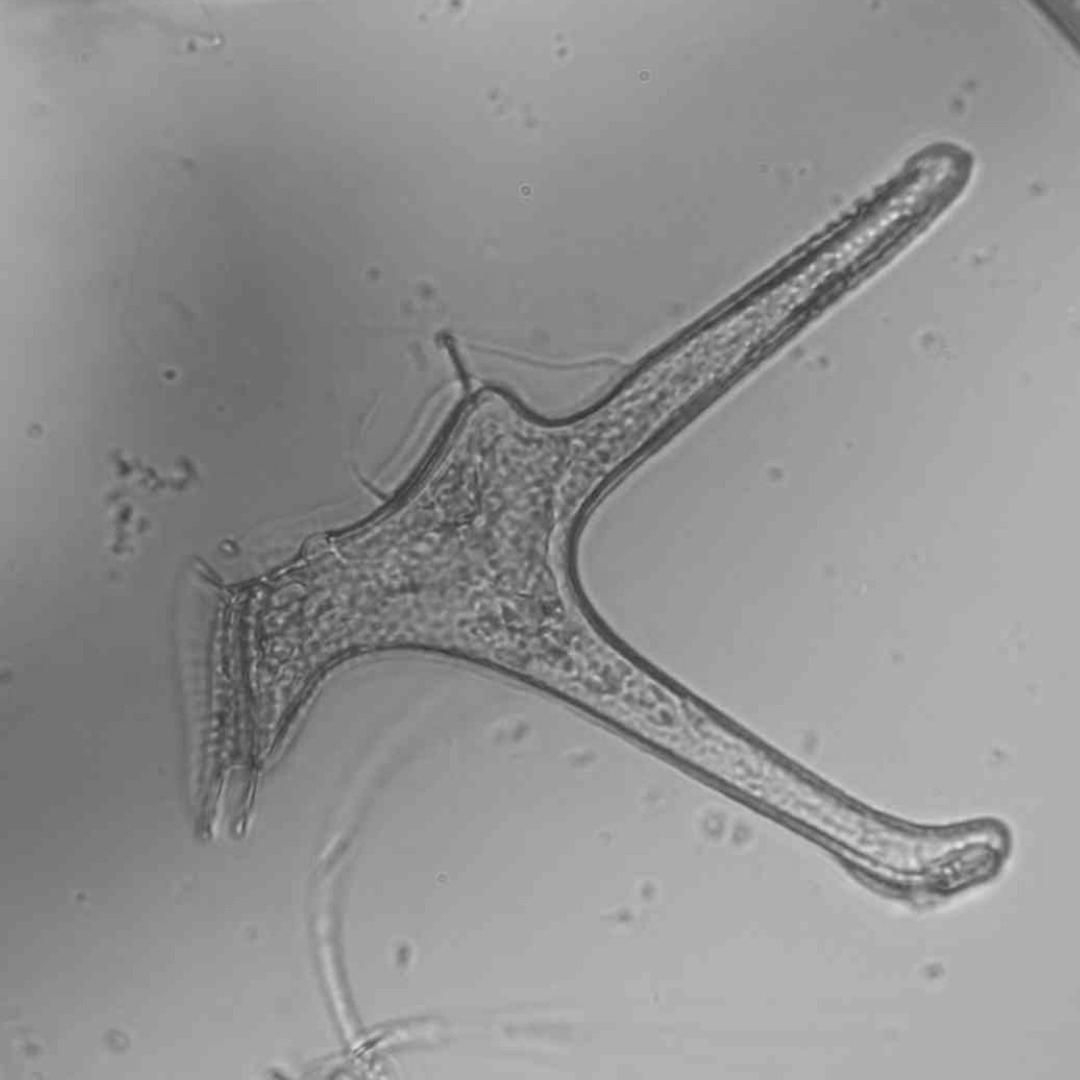dinophysis_miles: (187, 147, 1005, 899)
